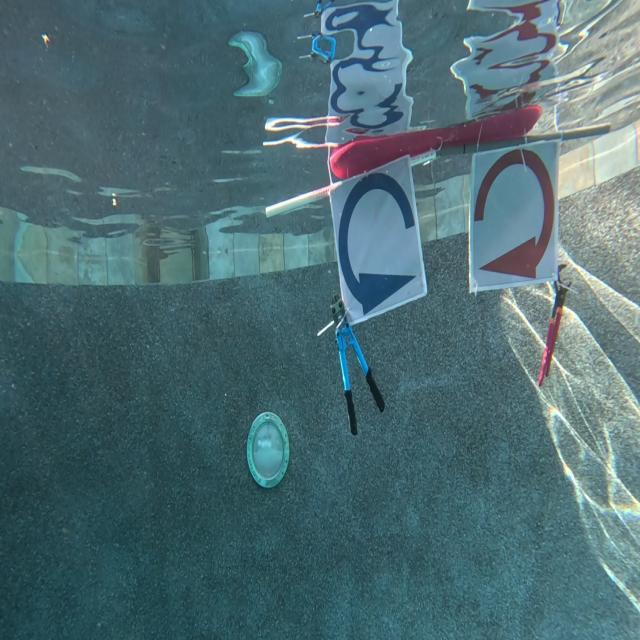blue_side: (325, 151, 427, 319)
red_side: (472, 141, 554, 292)
